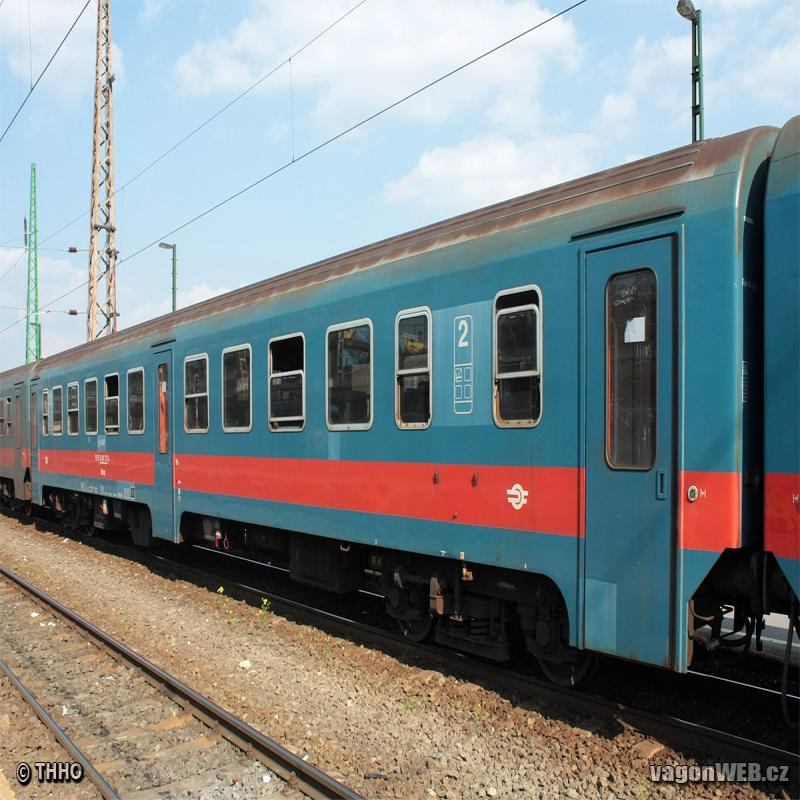train: (31, 127, 774, 743)
